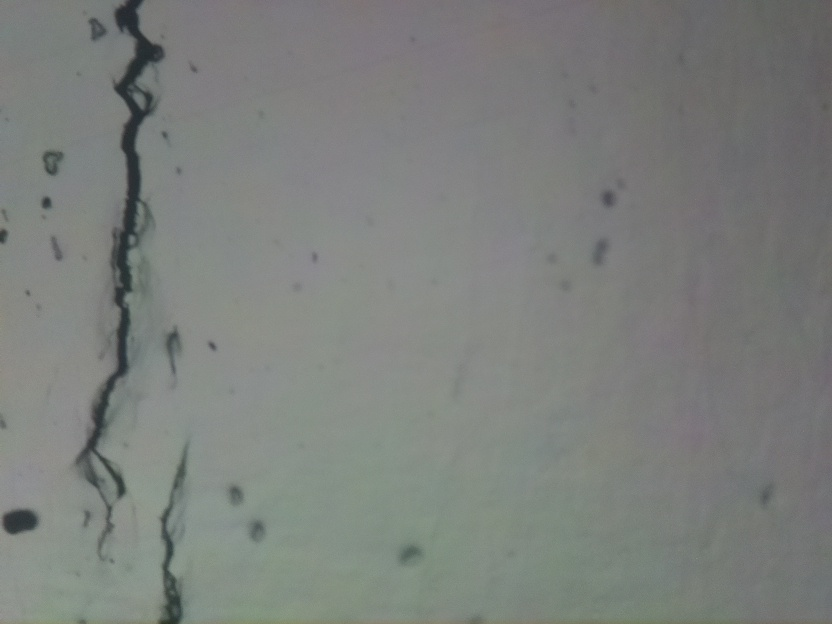crack: (75, 0, 166, 564), (158, 447, 204, 624)
